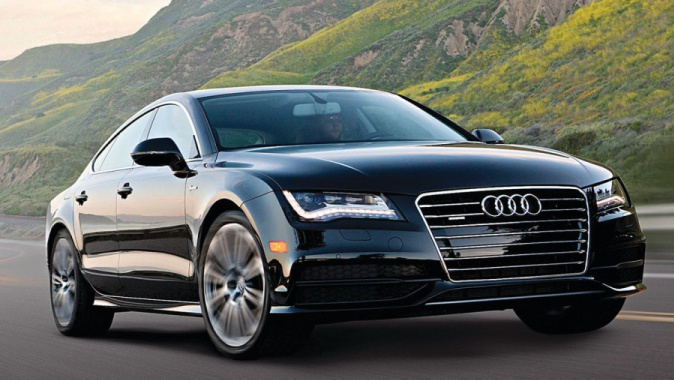audi: (476, 192, 548, 221)
